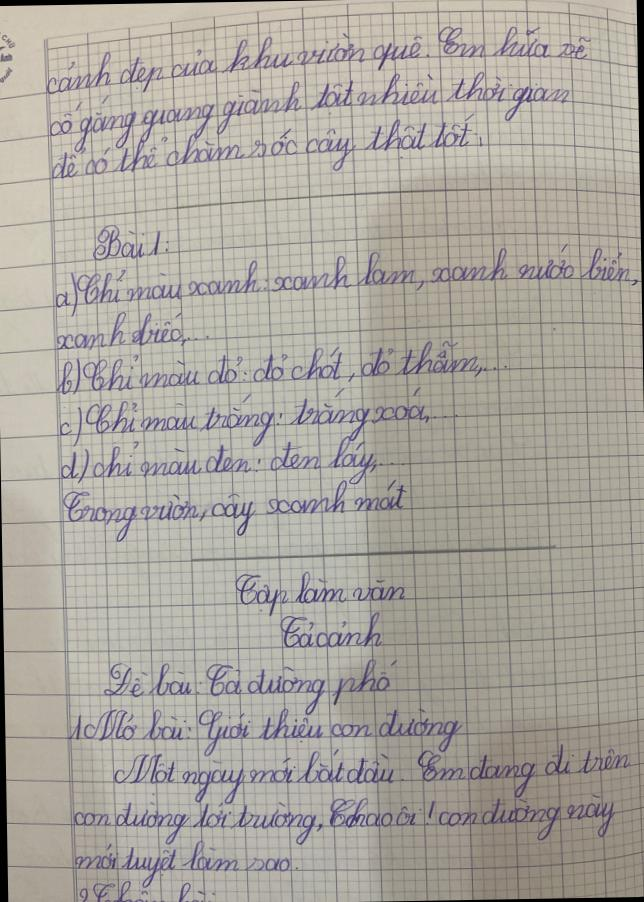text: (49, 235, 642, 320), (46, 63, 576, 154), (40, 18, 596, 101), (109, 741, 636, 812), (73, 786, 621, 854), (44, 105, 486, 186), (55, 332, 509, 401), (52, 382, 464, 453), (64, 700, 468, 766), (55, 473, 409, 548), (100, 652, 401, 723), (58, 435, 405, 494), (71, 834, 296, 892), (230, 564, 410, 622), (52, 308, 190, 356), (272, 606, 388, 654), (72, 873, 223, 902), (90, 219, 171, 265)
